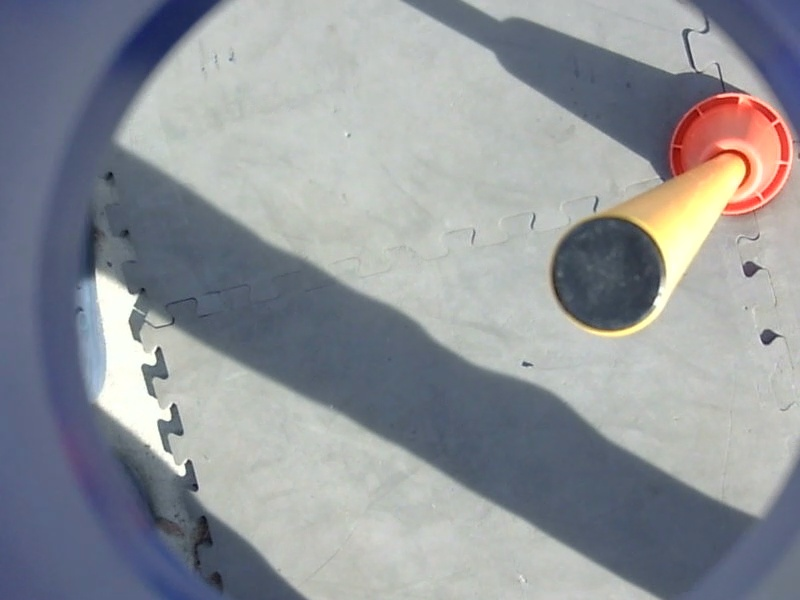tip: (544, 209, 679, 345)
